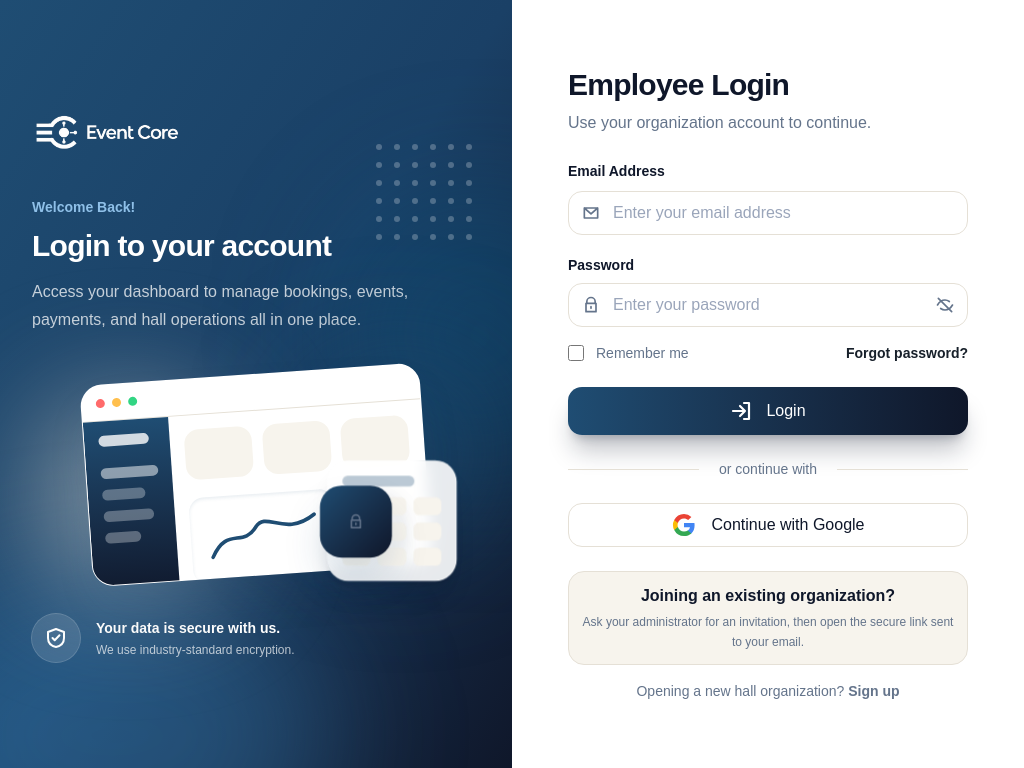
Test: LoginCard failure paths › rejects a password-only submission
The image size is (1024, 768).
Type "Secret123" into the password field labelled "Password". click: (768, 305)
box: left=613, top=293, right=923, bottom=317
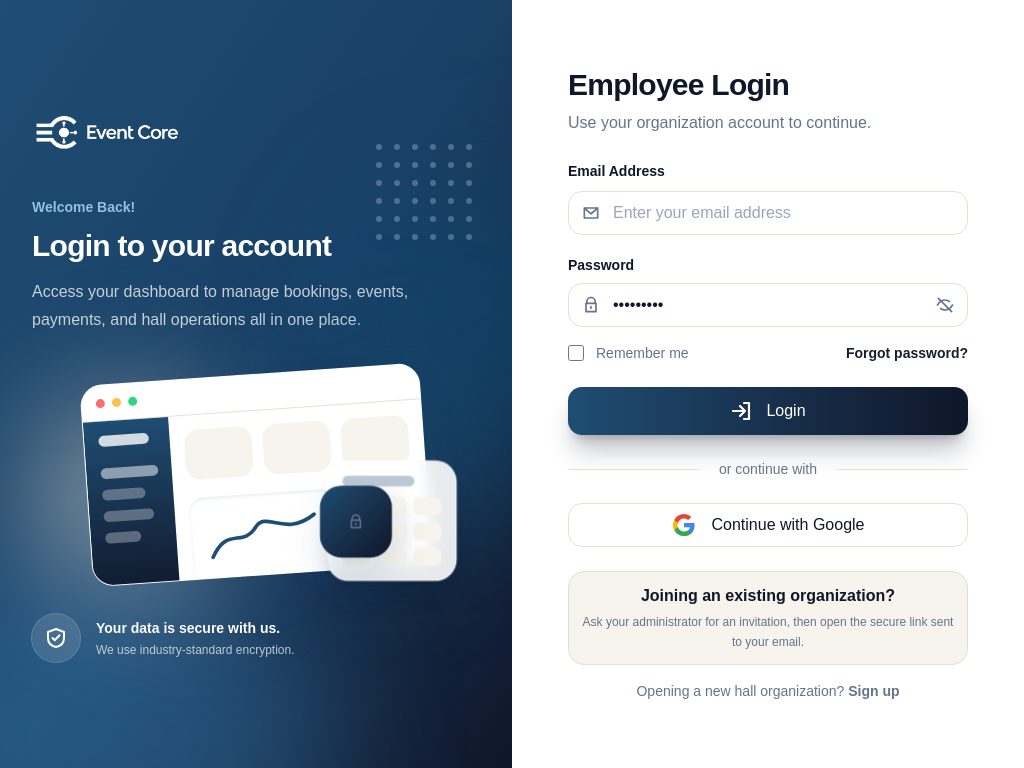
Submit the form "Login", box left=568, top=159, right=968, bottom=701
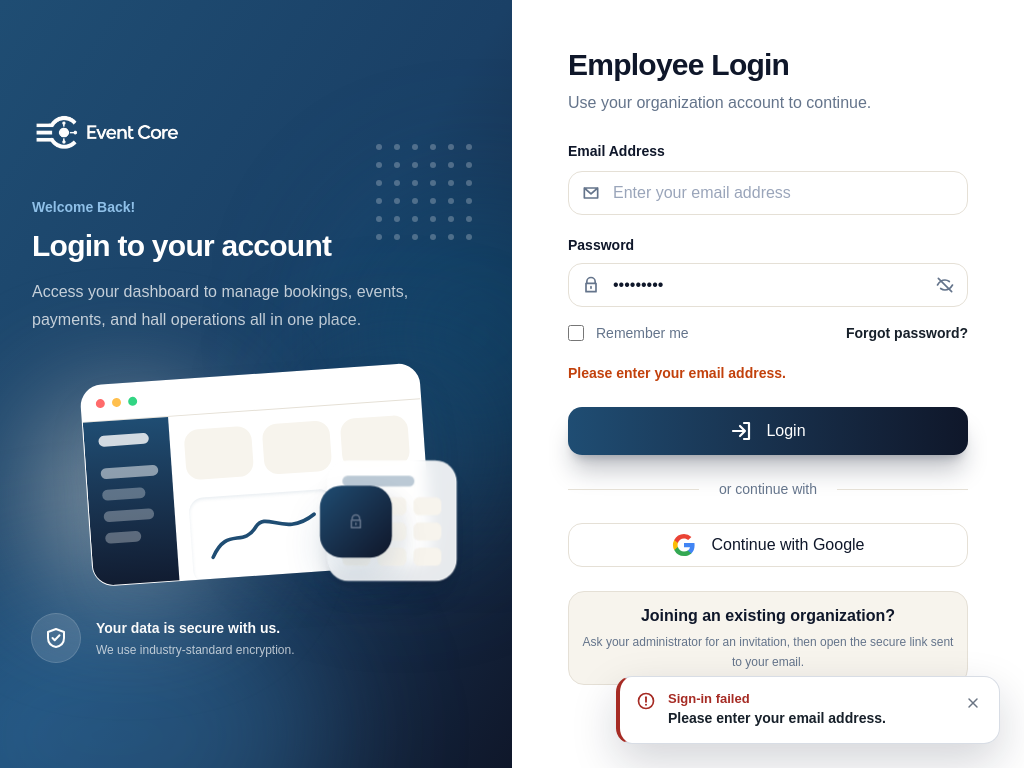
Result: the text "Please enter your email address." is shown 2 times at left=568, top=365, right=786, bottom=381; left=668, top=710, right=886, bottom=726
